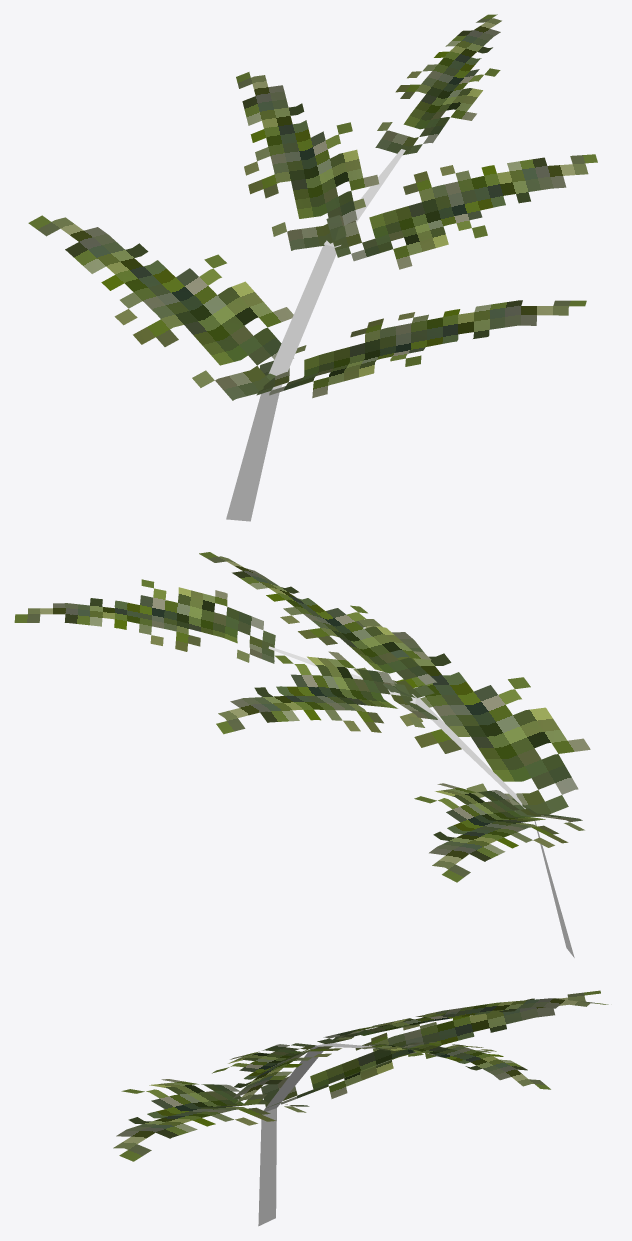
The model's file is Fern.fbx.
3 views of the same model, one above another, from view 1: azimuth 30°, elevation 25°; view 2: azimuth 150°, elevation 25°; view 3: azimuth 270°, elevation 25° (orthographic). The views are drawn at different scales.
Visible parts, largest first — view 1: Fern.001, Plane; view 2: Fern.001, Plane; view 3: Fern.001, Plane.
Boxes of the visible parts, box(x1,y1,x2,y2) form: Fern.001: box(28, 14, 597, 400); Plane: box(226, 149, 405, 521); Fern.001: box(14, 552, 590, 882); Plane: box(268, 646, 574, 957); Fern.001: box(113, 990, 608, 1161); Plane: box(258, 1043, 375, 1226).
Bounding box in the file's own units: 65.47 × 41.87 × 66.17.
Materials: 1 (1 with a texture image).
